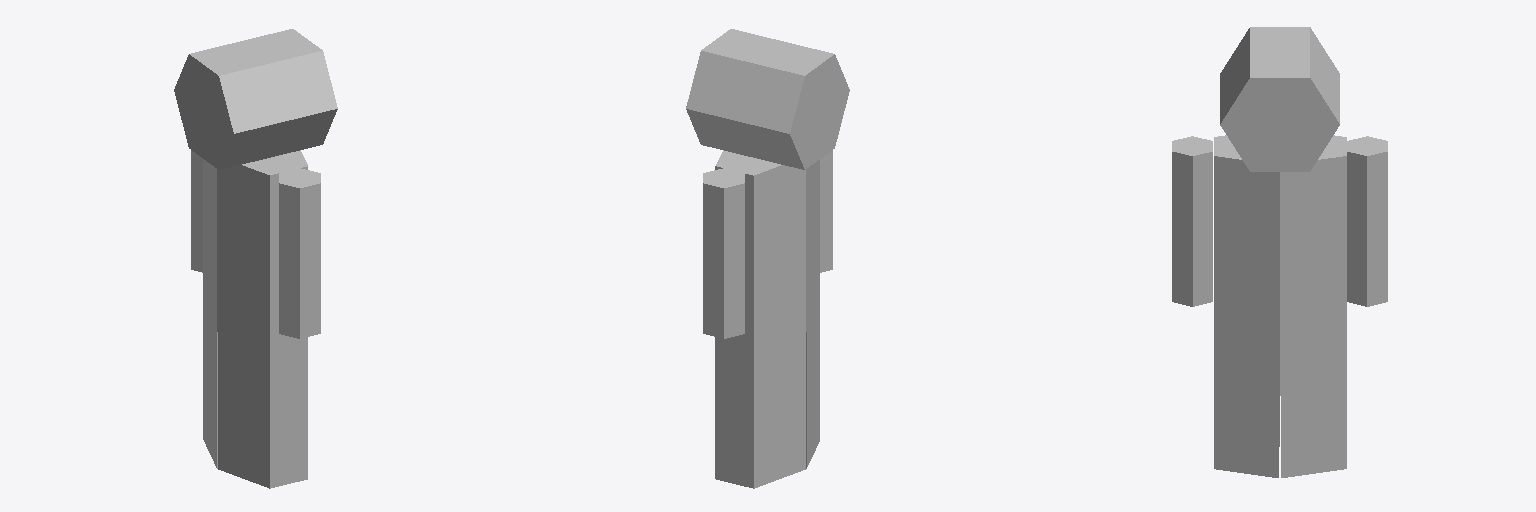
Rendered from steve.obj.
3 renders of one model, left to right at view 1: azimuth 30°, elevation 25°; view 2: azimuth 150°, elevation 25°; view 3: azimuth 270°, elevation 25°, orthographic.
Parts seen in each view (by area): view 1: Cylinder; view 2: Cylinder; view 3: Cylinder.
Boxes of the visible parts, x1,y1,x2,y2 form: Cylinder: [174, 29, 337, 488]; Cylinder: [686, 29, 849, 488]; Cylinder: [1172, 27, 1387, 477].
Bounding box in the file's own units: 2 × 7.48 × 3.61.